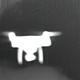plane: (1, 30, 61, 64)
